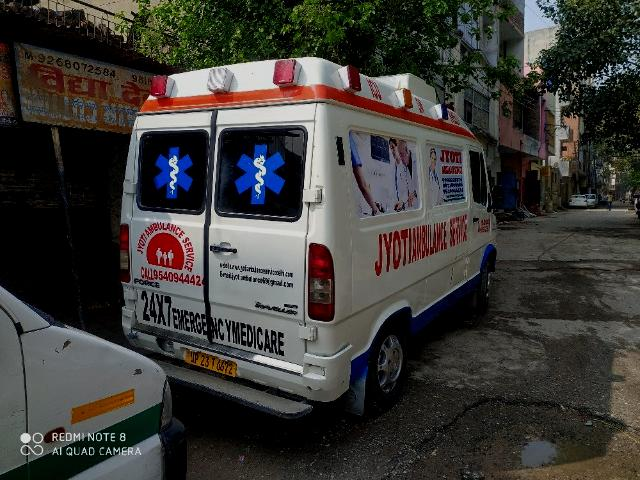ambulance: (117, 46, 502, 425)
